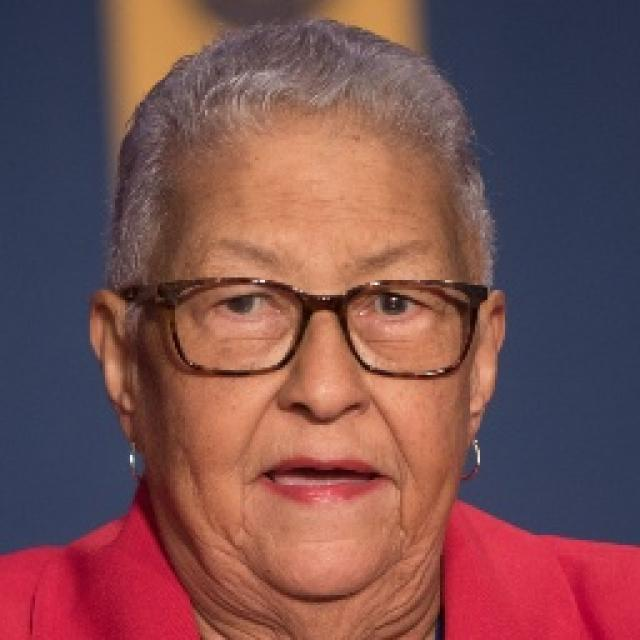earlobe: (463, 411, 485, 452), (118, 413, 136, 449)
eye: (357, 290, 440, 324), (210, 292, 286, 320)
nose: (279, 401, 366, 451)
wholeear: (87, 289, 138, 453), (464, 292, 508, 451)
